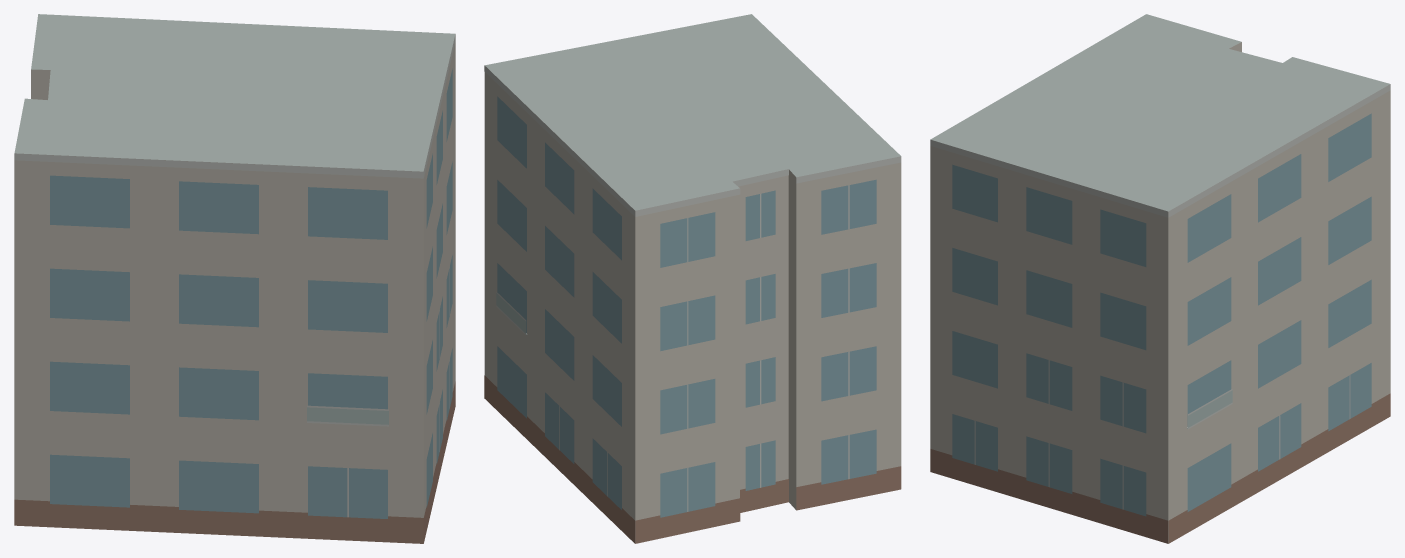
File: survey-upis-32731734.glb
3 renders of one model, left to right at view 1: azimuth 30°, elevation 25°; view 2: azimuth 150°, elevation 25°; view 3: azimuth 270°, elevation 25°, orthographic. The views are drawn at different scales.
Visible parts, largest first — view 1: survey-upis-32731734.tmp; view 2: survey-upis-32731734.tmp; view 3: survey-upis-32731734.tmp.
Part boxes in pixels (x1,y1,x2,y2): survey-upis-32731734.tmp: [14, 14, 455, 543]; survey-upis-32731734.tmp: [484, 14, 901, 543]; survey-upis-32731734.tmp: [930, 14, 1390, 543].
Bounding box in the file's own units: 16.58 × 13 × 16.33.
